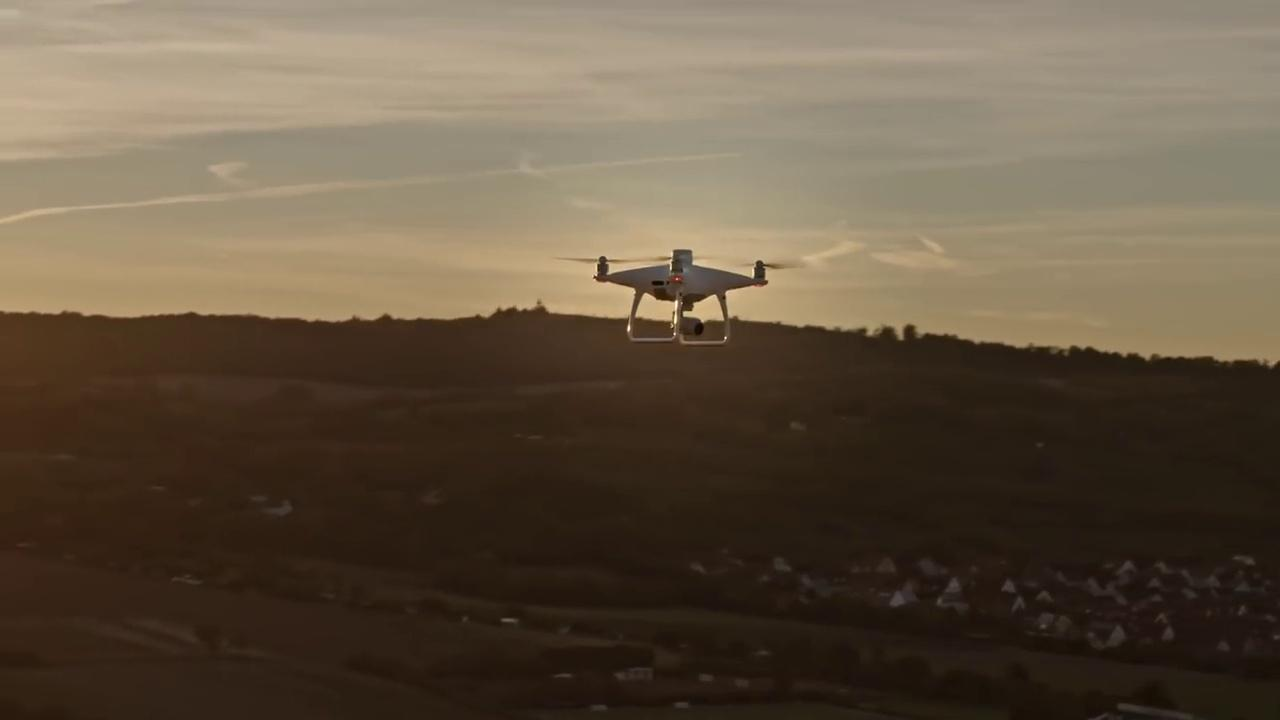drone: (550, 245, 808, 352)
